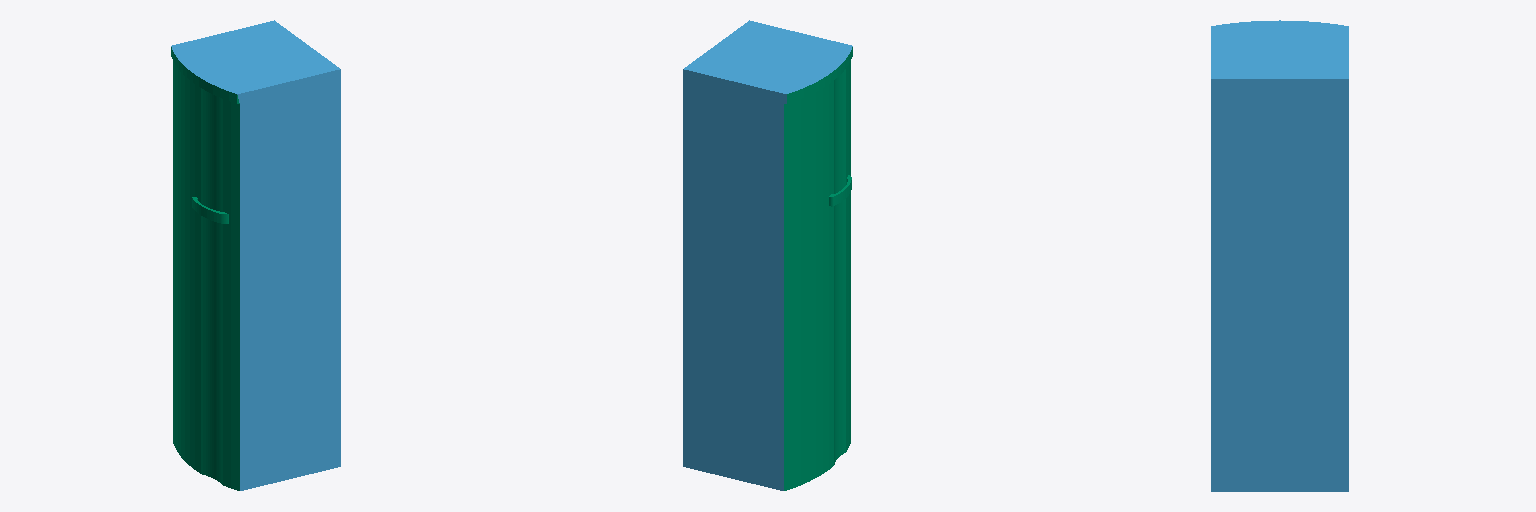
robot.urdf — partnet_4d8d0cb708324170c98c13d6112727de:
<?xml version="1.0" ?>
<robot name="partnet_4d8d0cb708324170c98c13d6112727de">
	<link name="base"/>
	<link name="link_0">
		<visual name="frame-15">
			<origin xyz="0 0 0"/>
			<geometry>
				<mesh filename="textured_objs/new-3.obj"/>
			</geometry>
		</visual>
		<visual name="frame-15">
			<origin xyz="0 0 0"/>
			<geometry>
				<mesh filename="textured_objs/new-2.obj"/>
			</geometry>
		</visual>
		<collision>
			<origin xyz="0 0 0"/>
			<geometry>
				<mesh filename="textured_objs/new-3.obj"/>
			</geometry>
		</collision>
		<collision>
			<origin xyz="0 0 0"/>
			<geometry>
				<mesh filename="textured_objs/new-2.obj"/>
			</geometry>
		</collision>
	</link>
	<joint name="joint_0" type="fixed">
		<origin rpy="1.570796326794897 0 -1.570796326794897" xyz="0 0 0"/>
		<child link="link_0"/>
		<parent link="base"/>
	</joint>
	<link name="link_1">
		<visual name="door_frame-17">
			<origin xyz="0.2538733581161189 -0.9167000000000001 -0.2314649916922523"/>
			<geometry>
				<mesh filename="textured_objs/new-1.obj"/>
			</geometry>
		</visual>
		<visual name="handle-18">
			<origin xyz="0.2538733581161189 -0.9167000000000001 -0.2314649916922523"/>
			<geometry>
				<mesh filename="textured_objs/original-2.obj"/>
			</geometry>
		</visual>
		<collision>
			<origin xyz="0.2538733581161189 -0.9167000000000001 -0.2314649916922523"/>
			<geometry>
				<mesh filename="textured_objs/new-1.obj"/>
			</geometry>
		</collision>
		<collision>
			<origin xyz="0.2538733581161189 -0.9167000000000001 -0.2314649916922523"/>
			<geometry>
				<mesh filename="textured_objs/original-2.obj"/>
			</geometry>
		</collision>
	</link>
	<joint name="joint_1" type="revolute">
		<origin xyz="-0.2538733581161189 0.9167000000000001 0.2314649916922523"/>
		<axis xyz="0 -1 0"/>
		<child link="link_1"/>
		<parent link="link_0"/>
		<limit lower="-0.0" upper="3.141592653589793"/>
	</joint>
</robot>

--- Render facts (derived) ---
3 views of the same robot in one strip: view 1: azimuth 30°, elevation 25°; view 2: azimuth 150°, elevation 25°; view 3: azimuth 270°, elevation 25° (orthographic).
Model partnet_4d8d0cb708324170c98c13d6112727de with 3 links and 2 joints (1 revolute, 1 fixed), rooted at base, posed every joint at zero.
Links seen in each view (by area): view 1: link_0, link_1; view 2: link_0, link_1; view 3: link_0.
Boxes of the visible links, <box> form: link_0: <box>171,20,340,490</box>; link_1: <box>171,47,239,490</box>; link_0: <box>683,20,852,490</box>; link_1: <box>784,47,852,490</box>; link_0: <box>1211,20,1348,491</box>.
Bounding box of the posed robot: 0.5754 × 0.5615 × 1.85 m (x, y, z).
4 mesh visuals loaded from 4 distinct referenced files (4 OBJ).
